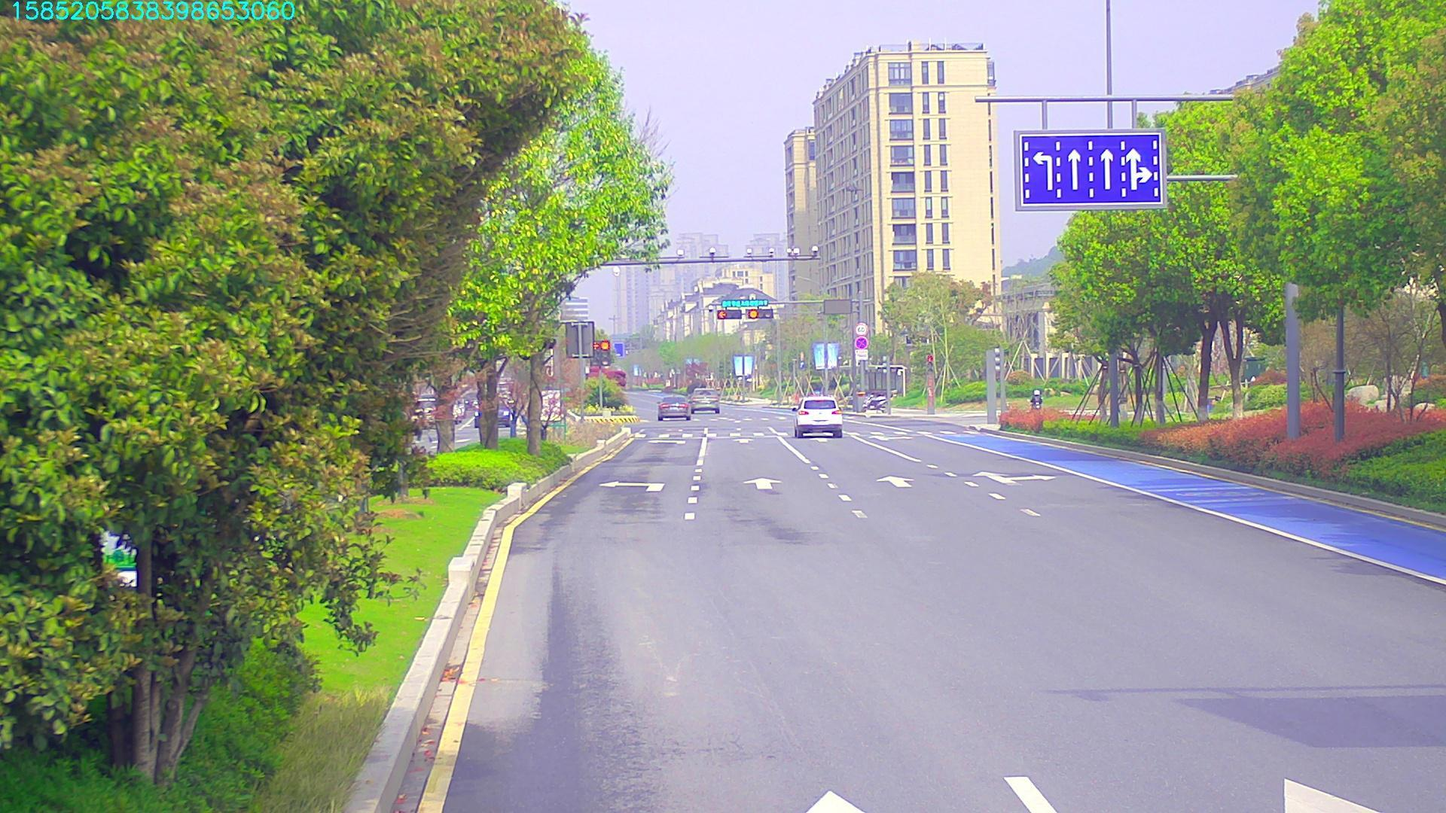red: (745, 308, 773, 322), (713, 308, 742, 320)
wait_on: (719, 299, 771, 308)
